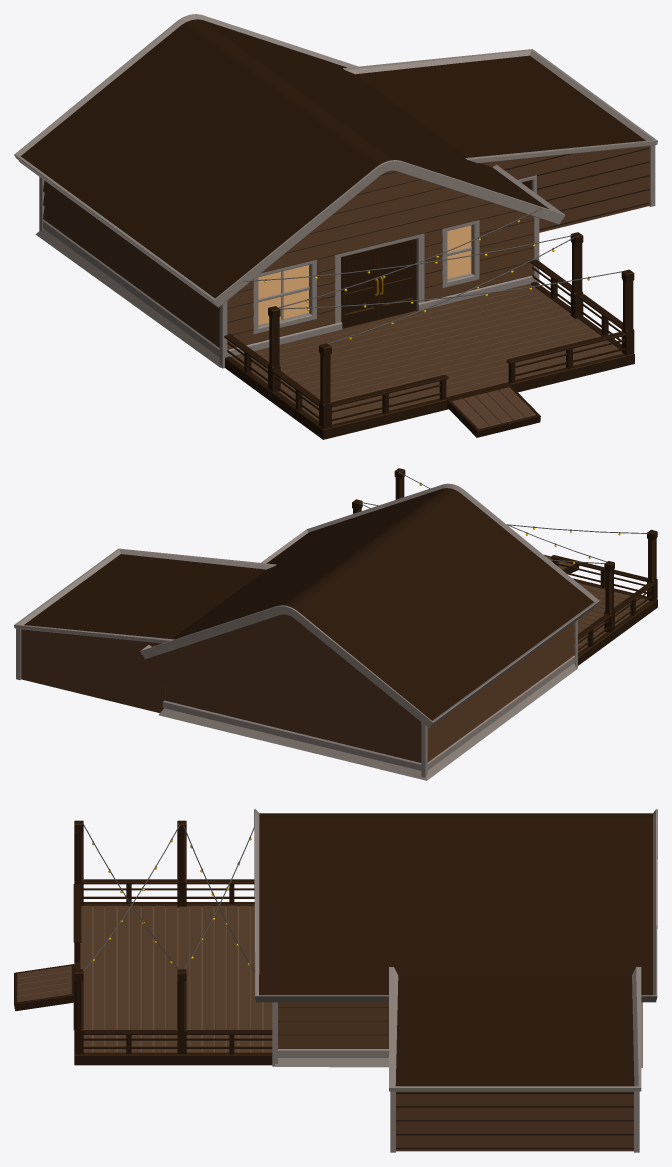
Rendered from restaurantUnwrapped.fbx.
The picture shows the model from 3 angles, top to bottom: view 1: azimuth 30°, elevation 25°; view 2: azimuth 150°, elevation 25°; view 3: azimuth 270°, elevation 25°; orthographic projection. The views are drawn at different scales.
Visible parts, largest first — view 1: restaurantMesh; view 2: restaurantMesh; view 3: restaurantMesh.
Boxes of the visible parts, box(x1,y1,x2,y2) form: restaurantMesh: box(14, 14, 657, 439); restaurantMesh: box(14, 468, 657, 780); restaurantMesh: box(14, 809, 657, 1152).
Bounding box in the file's own units: 27.8 × 9.46 × 30.13.
